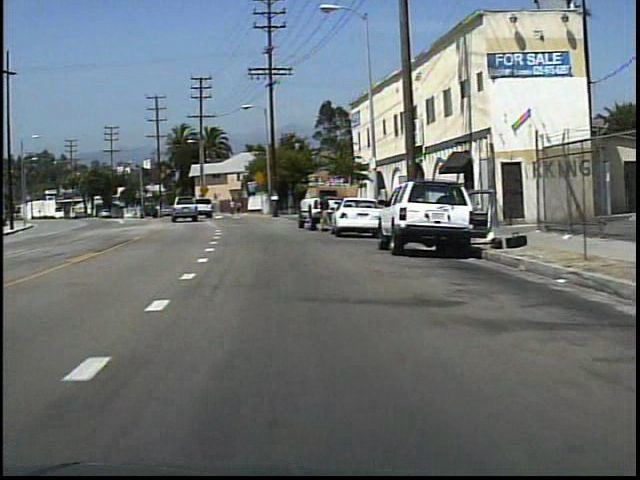person: (317, 188, 335, 236), (229, 198, 239, 218), (235, 200, 244, 216)
